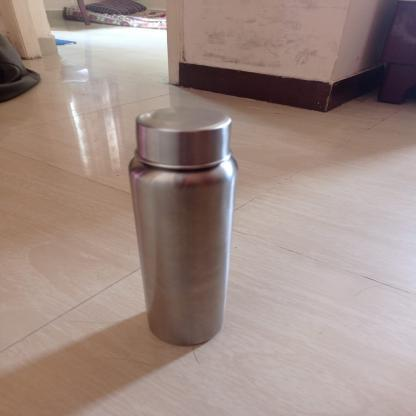bottle: (118, 0, 255, 37)
